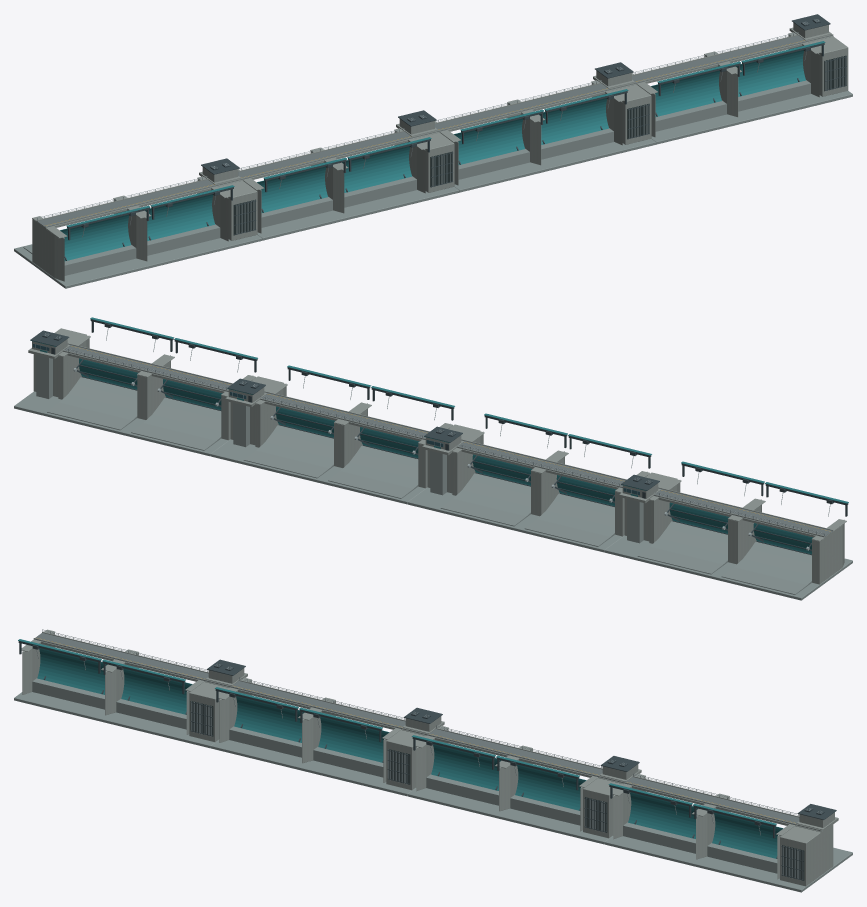
Rendered from Dam_Assembly300_LOD0.glb.
3 renders of one model, top to bottom at view 1: azimuth 30°, elevation 25°; view 2: azimuth 150°, elevation 25°; view 3: azimuth 330°, elevation 25°, orthographic.
Visible parts, largest first — view 1: Dam_Unit_01_75m, Dam_Unit_02_75m, Dam_Unit_03_75m, Dam_Unit_04_75m; view 2: Dam_Unit_01_75m, Dam_Unit_02_75m, Dam_Unit_03_75m, Dam_Unit_04_75m; view 3: Dam_Unit_04_75m, Dam_Unit_03_75m, Dam_Unit_01_75m, Dam_Unit_02_75m.
Part boxes in pixels (left/top/right/bottom): Dam_Unit_01_75m: left=14, top=158, right=262, bottom=288; Dam_Unit_02_75m: left=238, top=110, right=458, bottom=240; Dam_Unit_03_75m: left=435, top=62, right=655, bottom=192; Dam_Unit_04_75m: left=632, top=14, right=852, bottom=144; Dam_Unit_01_75m: left=604, top=461, right=852, bottom=600; Dam_Unit_02_75m: left=408, top=413, right=651, bottom=552; Dam_Unit_03_75m: left=211, top=365, right=454, bottom=504; Dam_Unit_04_75m: left=14, top=317, right=257, bottom=456; Dam_Unit_04_75m: left=604, top=773, right=852, bottom=892; Dam_Unit_03_75m: left=408, top=725, right=641, bottom=844; Dam_Unit_01_75m: left=14, top=629, right=247, bottom=748; Dam_Unit_02_75m: left=211, top=677, right=444, bottom=796.
Size of the model in its own units: 300 by 22.08 by 34.
Materials: 9 (1 with a texture image).
